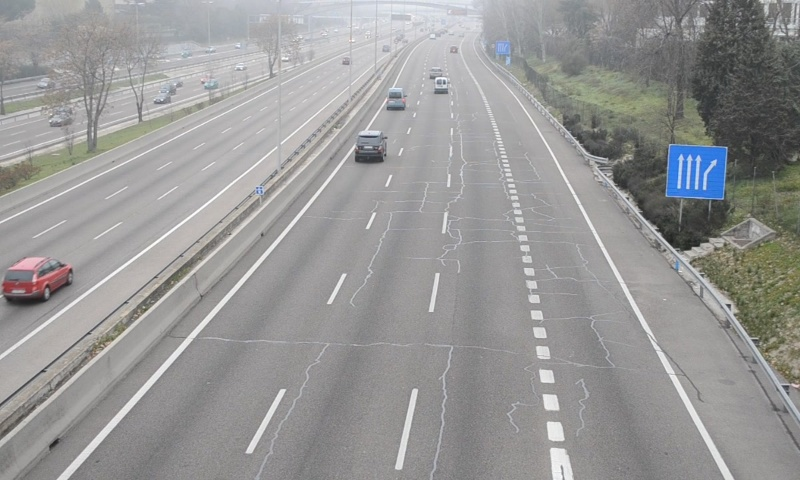car: (356, 130, 388, 160)
van: (386, 87, 406, 111)
